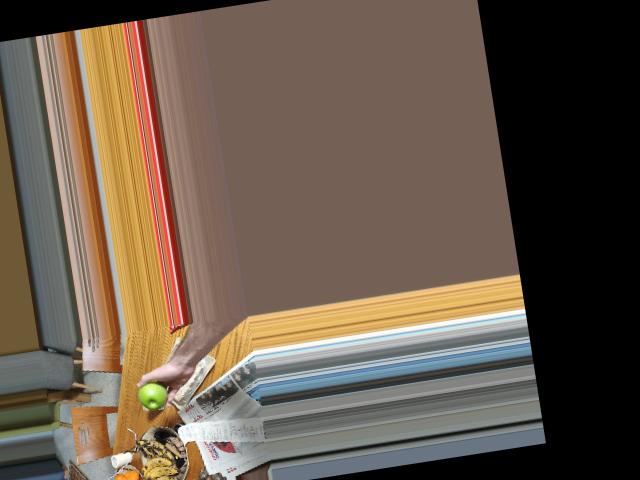apple: (134, 377, 172, 413)
